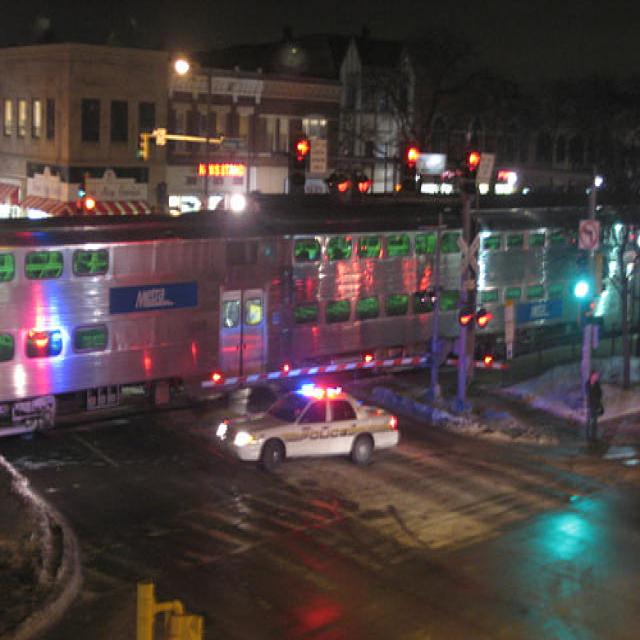Vehicle: (213, 381, 400, 476)
